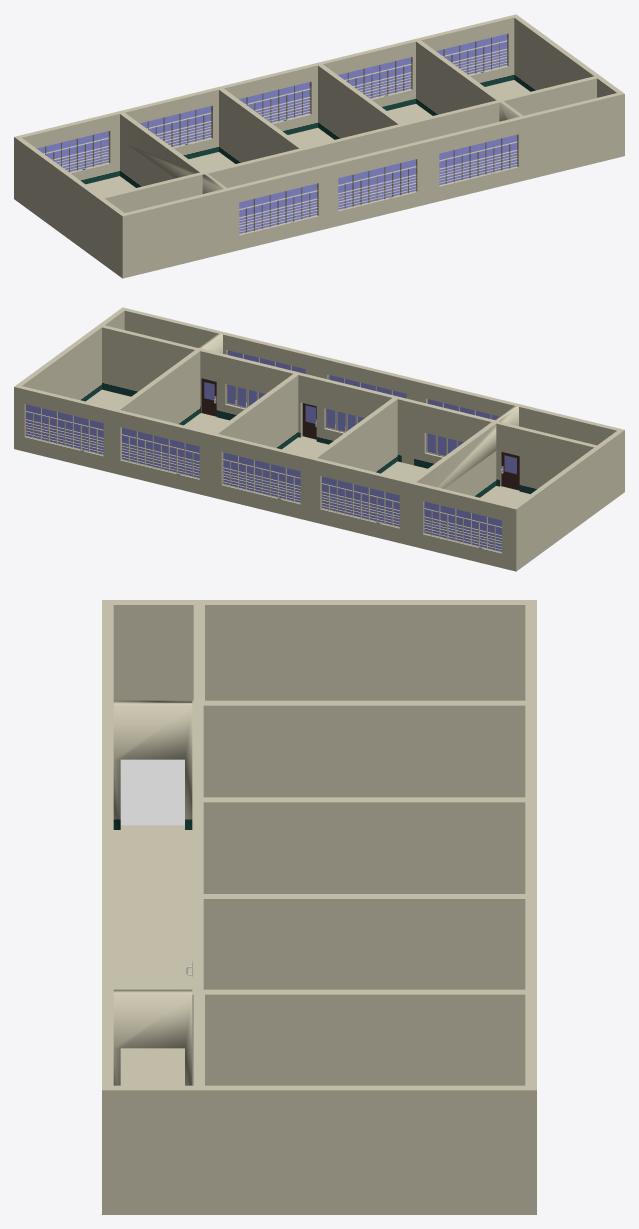
The model's file is 2ND_FLR_ELEM.fbx.
3 renders of one model, top to bottom at view 1: azimuth 30°, elevation 25°; view 2: azimuth 150°, elevation 25°; view 3: azimuth 270°, elevation 25°, orthographic. The views are drawn at different scales.
Parts seen in each view (by area): view 1: Wall.027, Wall.028, Wall.025, Wall.016, Wall.024, Wall.019, Wall.017, Wall.018, Floor_Plane, WindowPanes.002, WindowPanes, WindowPanes.001 (+18 smaller); view 2: Wall.028, Wall.027, Wall.025, Wall.015, Wall.022, Wall.016, Wall.019, Wall.024, Wall.023, Wall.017, Wall.018, Wall.021 (+18 smaller); view 3: Wall.024, Wall.025, Wall.019, Wall.016, Wall.018, Wall.017, Floor_Plane, Wall.027, Wall.028, StairPlane(Remove if gonna put stair), Wall.022, Wall.023 (+3 smaller).
Part boxes in pixels (bbox=[...]): Wall.027: bbox=[120, 92, 624, 278]; Wall.028: bbox=[14, 14, 518, 200]; Wall.025: bbox=[17, 138, 124, 276]; Wall.016: bbox=[416, 40, 523, 121]; Wall.024: bbox=[514, 16, 621, 97]; Wall.019: bbox=[120, 112, 227, 193]; Wall.017: bbox=[318, 64, 406, 145]; Wall.018: bbox=[219, 88, 307, 169]; Floor_Plane: bbox=[86, 80, 529, 196]; WindowPanes.002: bbox=[439, 134, 516, 184]; WindowPanes: bbox=[239, 183, 316, 233]; WindowPanes.001: bbox=[338, 159, 415, 209]; Wall.028: bbox=[14, 385, 519, 571]; Wall.027: bbox=[120, 307, 624, 493]; Wall.025: bbox=[514, 431, 621, 568]; Wall.015: bbox=[102, 325, 197, 396]; Wall.022: bbox=[496, 421, 596, 493]; Wall.016: bbox=[115, 333, 222, 425]; Wall.019: bbox=[411, 405, 518, 497]; Wall.024: bbox=[17, 309, 124, 401]; Wall.023: bbox=[397, 397, 493, 468]; Wall.017: bbox=[213, 371, 300, 449]; Wall.018: bbox=[312, 396, 399, 473]; Wall.021: bbox=[298, 373, 394, 444]; Wall.024: bbox=[113, 1085, 525, 1214]; Wall.025: bbox=[113, 600, 525, 700]; Wall.019: bbox=[113, 700, 525, 829]; Wall.016: bbox=[113, 989, 525, 1085]; Wall.018: bbox=[192, 797, 525, 893]; Wall.017: bbox=[192, 894, 525, 989]; Floor_Plane: bbox=[113, 825, 192, 1085]; Wall.027: bbox=[102, 600, 113, 1214]; Wall.028: bbox=[525, 600, 536, 1214]; StairPlane(Remove if gonna put stair): bbox=[120, 759, 184, 825]; Wall.022: bbox=[193, 605, 204, 700]; Wall.023: bbox=[192, 705, 203, 797].
Size of the model in its own units: 2535 by 300 by 950.
Materials: 3 (1 with a texture image).
